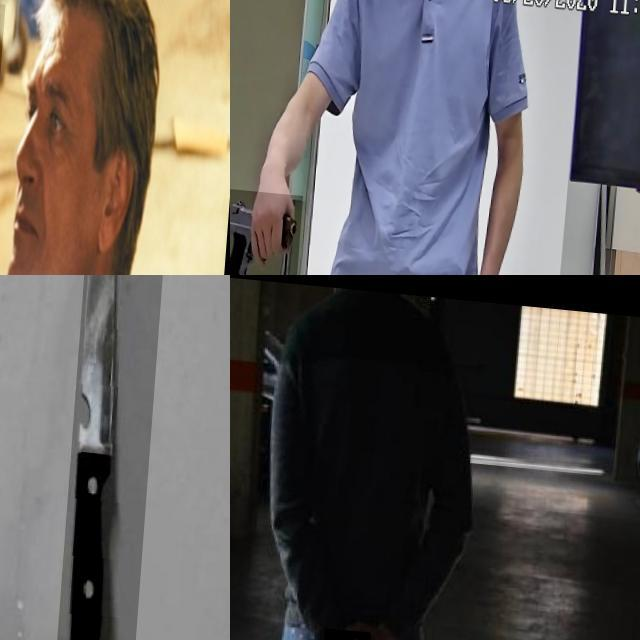-: (60, 275, 171, 640)
gun-knife-thesis - v11 Yolov5 augmented: (0, 0, 68, 247), (230, 184, 306, 275)
